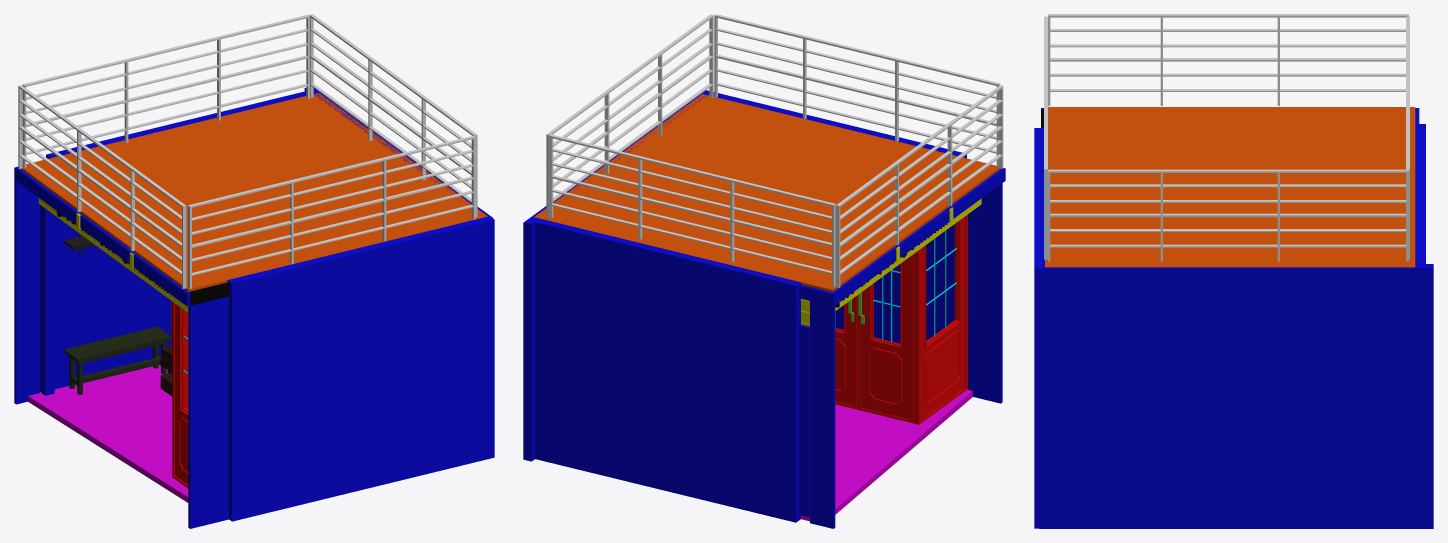
File: Building_7.fbx
3 views of the same model, side by side, from view 1: azimuth 30°, elevation 25°; view 2: azimuth 150°, elevation 25°; view 3: azimuth 270°, elevation 25° (orthographic). The views are drawn at different scales.
Visible parts, largest first — view 1: Building_7; view 2: Building_7; view 3: Building_7.
Part boxes in pixels (x1,y1,x2,y2): Building_7: (14, 14, 494, 528); Building_7: (523, 14, 1005, 528); Building_7: (1034, 14, 1433, 528).
Size of the model in its own units: 156 by 157 by 161.
